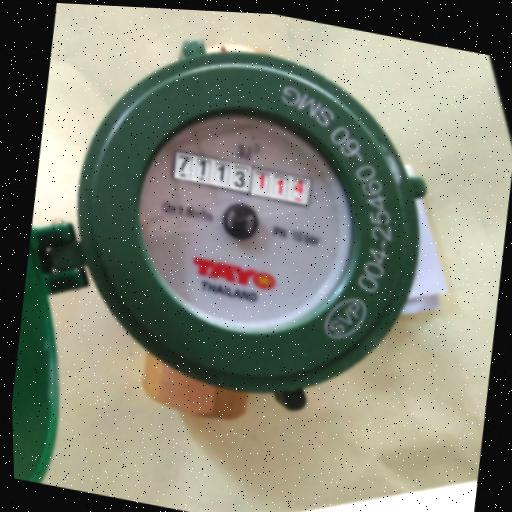1: (194, 159, 212, 182), (211, 162, 229, 185), (252, 171, 270, 194), (271, 175, 289, 198)
3: (232, 166, 249, 190)
4: (289, 179, 307, 203)
7: (175, 155, 193, 179)
border_water_meter_number: (170, 149, 313, 208)
